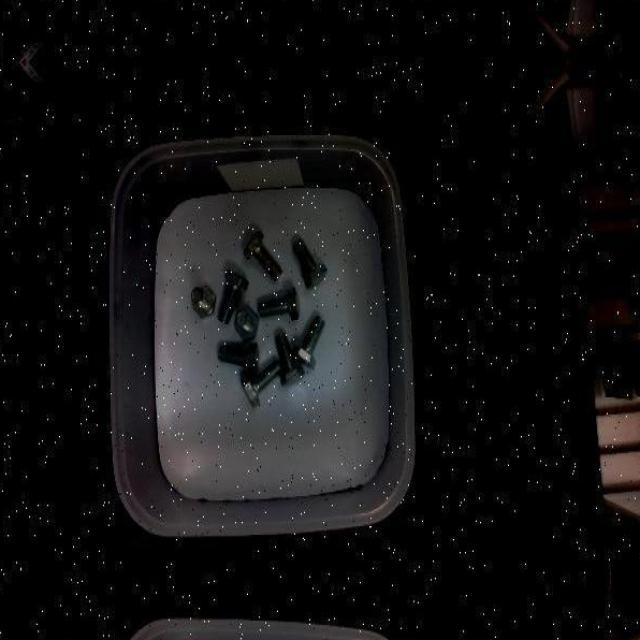screw: (240, 360, 282, 407), (244, 230, 282, 278), (294, 238, 329, 288), (294, 314, 326, 368), (219, 268, 249, 322), (276, 333, 305, 384), (218, 342, 261, 376), (260, 287, 301, 318), (234, 306, 259, 340), (191, 284, 216, 316)
